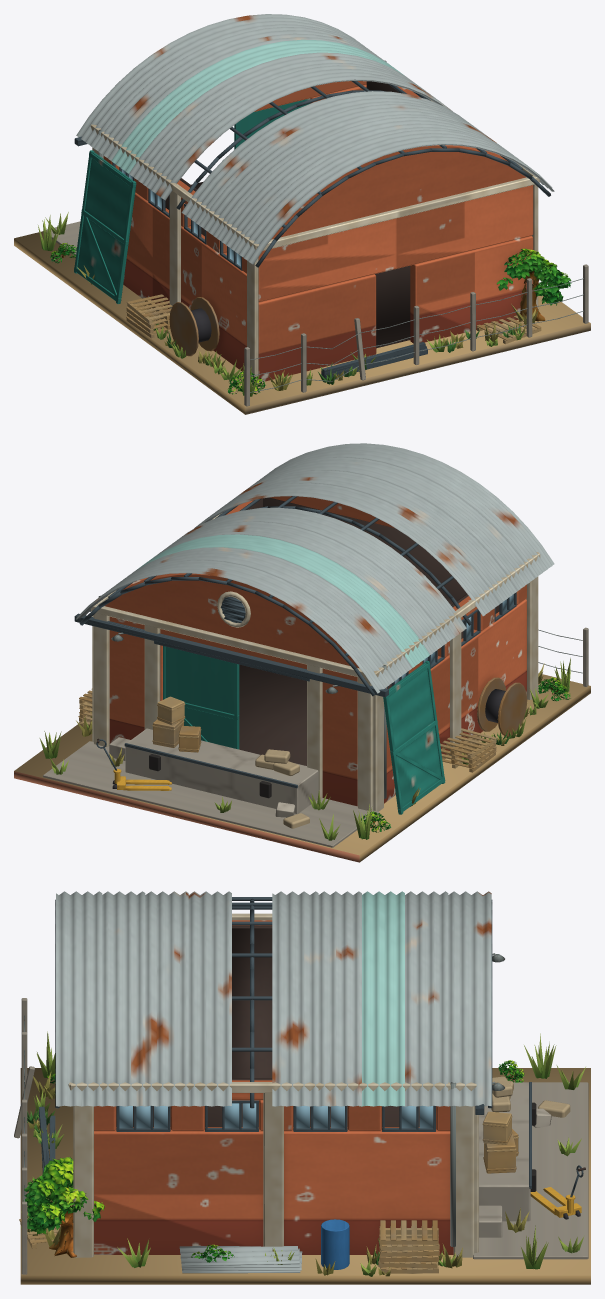
The model's file is Lot_Galpao.fbx.
3 views of the same model, one above another, from view 1: azimuth 30°, elevation 25°; view 2: azimuth 150°, elevation 25°; view 3: azimuth 270°, elevation 25° (orthographic). The views are drawn at different scales.
Visible parts, largest first — view 1: GAL_building, GAL_roof, GAL_pad, GAL_yard, GAL_junk; view 2: GAL_building, GAL_roof, GAL_yard, GAL_pad, GAL_junk; view 3: GAL_roof, GAL_building, GAL_yard, GAL_pad, GAL_junk.
Part boxes in pixels (x1,y1,x2,y2): GAL_building: (74, 60, 540, 383); GAL_roof: (76, 14, 554, 267); GAL_pad: (14, 231, 590, 414); GAL_yard: (38, 212, 588, 406); GAL_junk: (126, 294, 541, 378); GAL_building: (74, 496, 540, 817); GAL_roof: (76, 443, 554, 696); GAL_yard: (39, 627, 588, 847); GAL_pad: (14, 673, 590, 862); GAL_junk: (78, 677, 527, 828); GAL_roof: (55, 891, 492, 1108); GAL_building: (68, 913, 551, 1257); GAL_yard: (14, 998, 588, 1276); GAL_pad: (20, 1068, 590, 1284); GAL_junk: (19, 1076, 585, 1273).
Size of the model in its own units: 10.17 by 5.93 by 11.73.
1 material, 1 textured.
